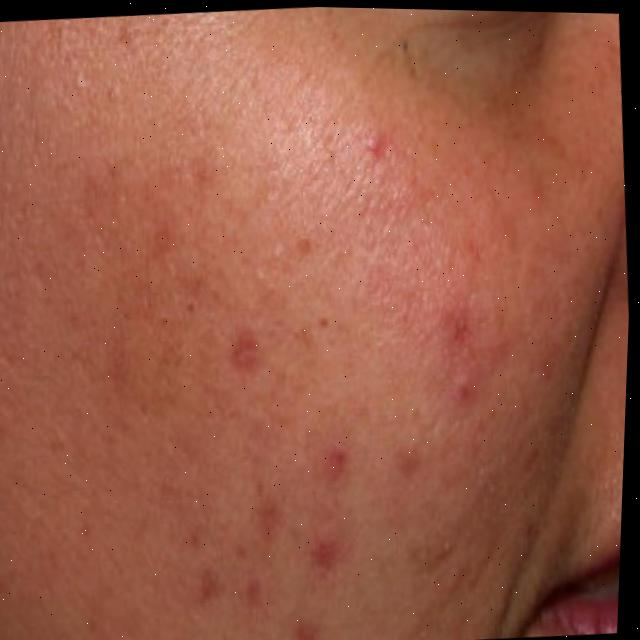Acne: (124, 85, 532, 640)
